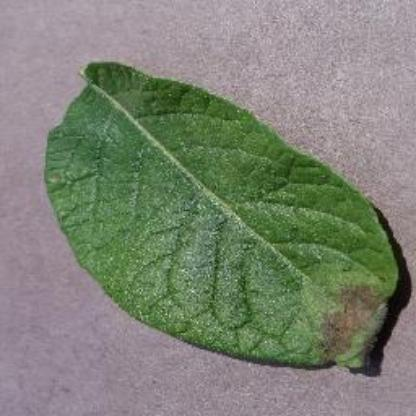Late-Blight: (30, 51, 410, 386)
